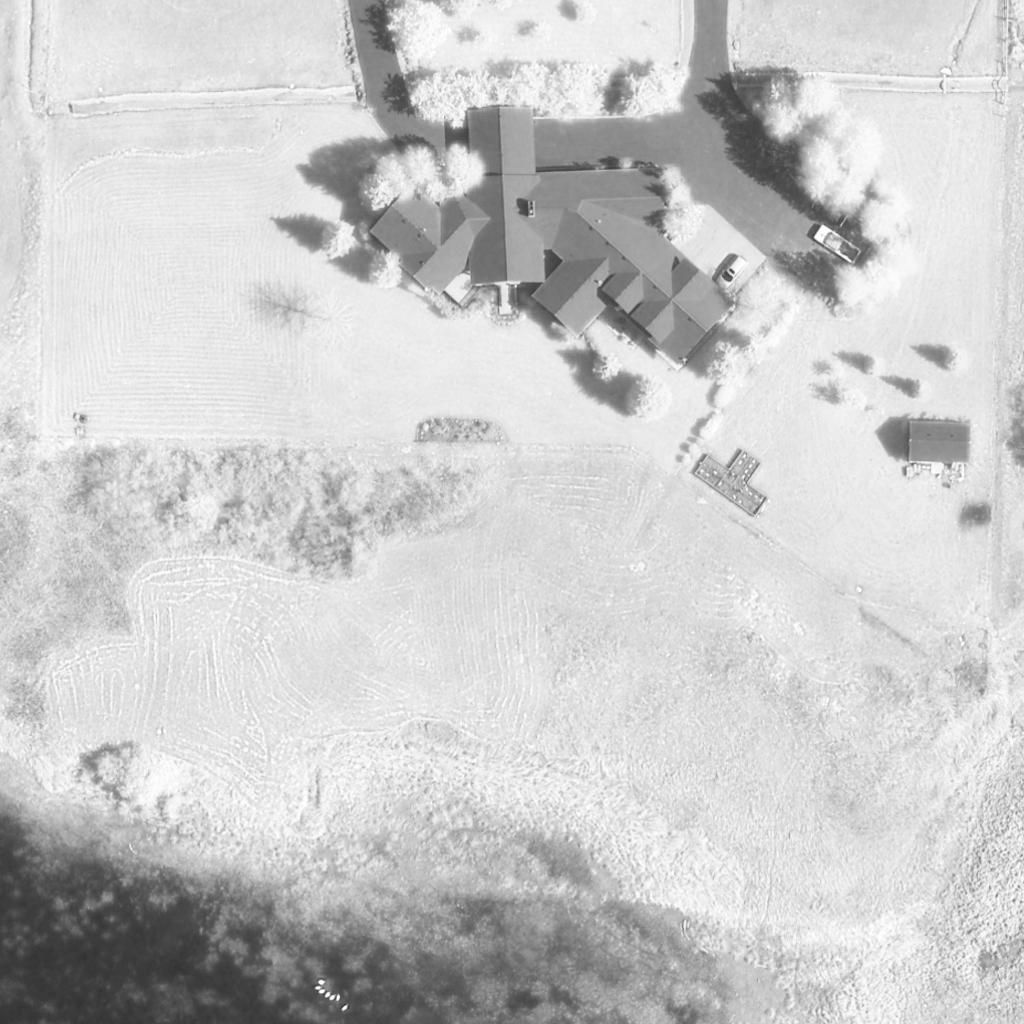vehicle: (811, 225, 863, 263), (715, 252, 749, 292)
